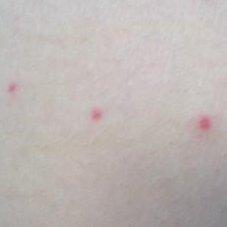Fleas: (196, 115, 213, 132), (93, 108, 101, 120), (6, 83, 16, 92)
